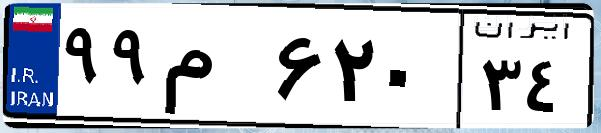0: (385, 28, 445, 110)
2: (330, 28, 385, 110)
3: (475, 38, 525, 113)
4: (525, 38, 570, 115)
6: (270, 28, 330, 110)
9: (57, 26, 110, 100), (110, 28, 158, 98)
م: (158, 20, 270, 120)
